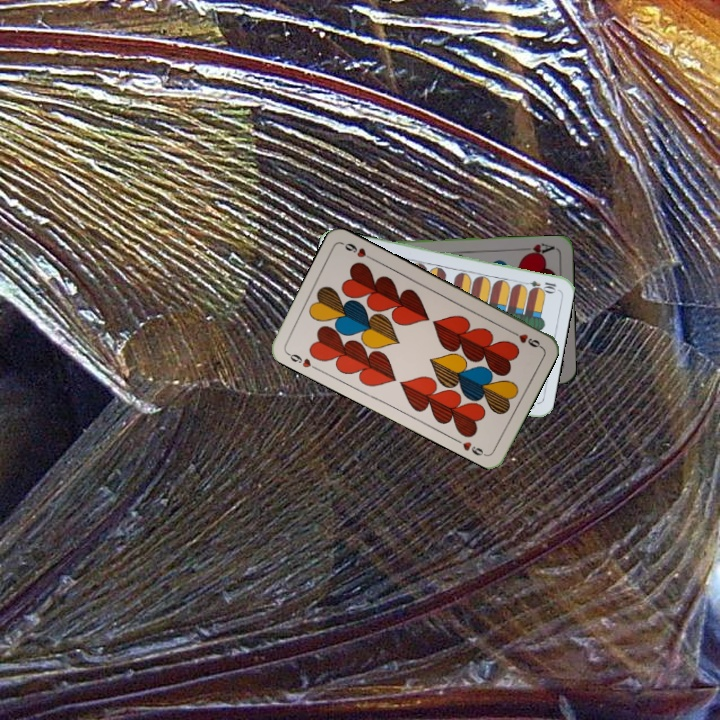E10: (518, 276, 558, 294)
H9: (506, 326, 544, 350), (283, 349, 321, 373)
HA: (517, 239, 557, 259)
